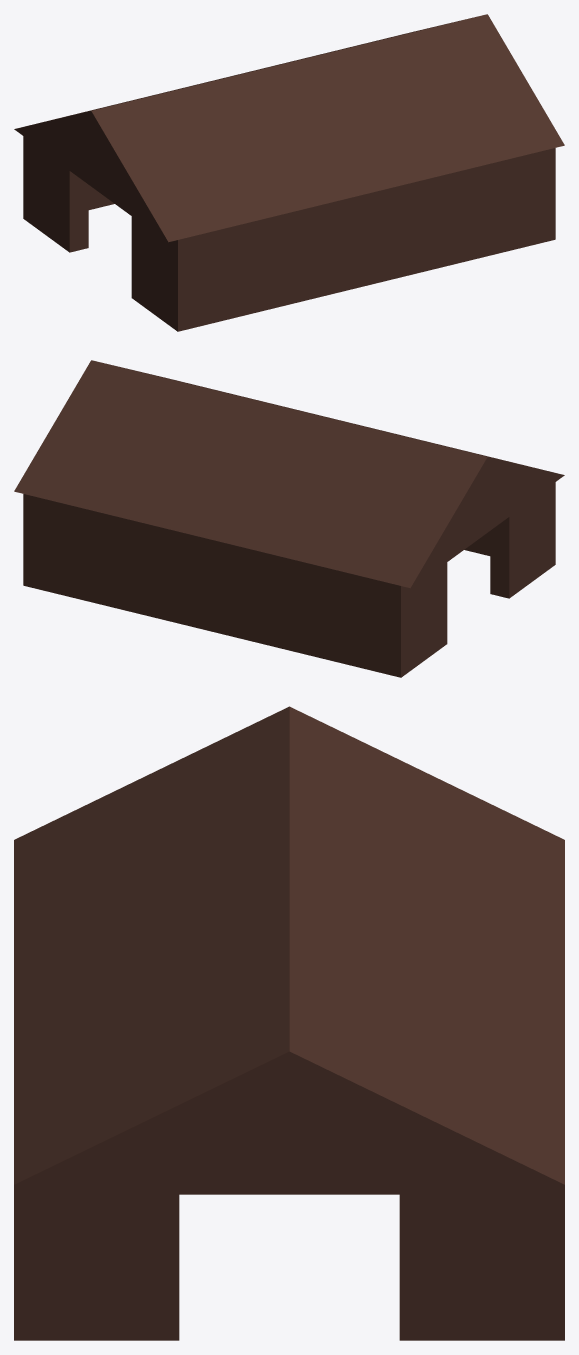
Rendered from Barn.fbx.
3 views of the same model, one above another, from view 1: azimuth 30°, elevation 25°; view 2: azimuth 150°, elevation 25°; view 3: azimuth 270°, elevation 25° (orthographic). The views are drawn at different scales.
Parts seen in each view (by area): view 1: Barn; view 2: Barn; view 3: Barn.
Boxes of the visible parts, box(x1,y1,x2,y2) form: Barn: box(14, 14, 564, 331); Barn: box(14, 360, 564, 677); Barn: box(14, 706, 564, 1340).
Bounding box in the file's own units: 1793 × 720 × 1210.
